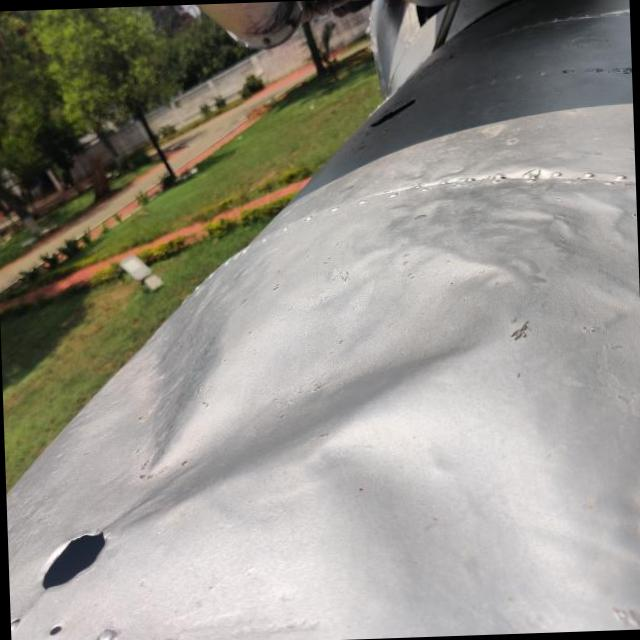Dent: (81, 186, 517, 533), (516, 167, 638, 250)
